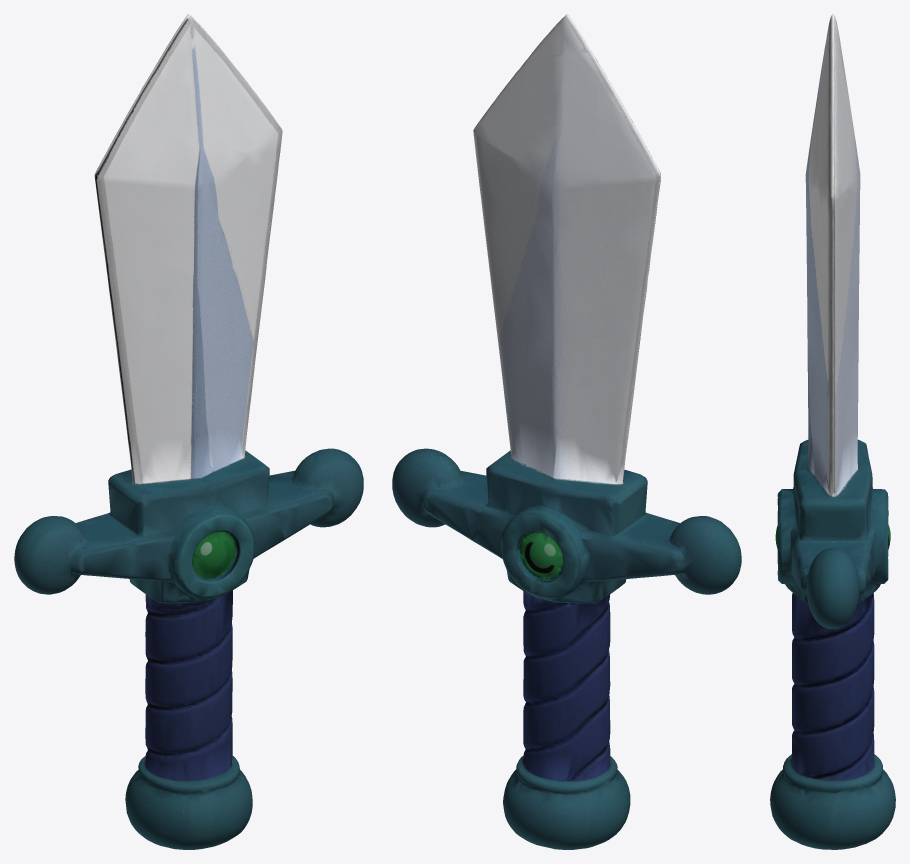
The model's file is sword.glb.
3 views of the same model, side by side, from view 1: azimuth 30°, elevation 25°; view 2: azimuth 150°, elevation 25°; view 3: azimuth 270°, elevation 25° (orthographic).
Visible parts, largest first — view 1: mesh_node; view 2: mesh_node; view 3: mesh_node.
Part boxes in pixels (x1,y1,x2,y2): mesh_node: (14,14,363,849); mesh_node: (392,14,741,849); mesh_node: (770,14,895,849).
Bounding box in the file's own units: 0.8283 × 1.9 × 0.2628.
1 material, 1 textured.
